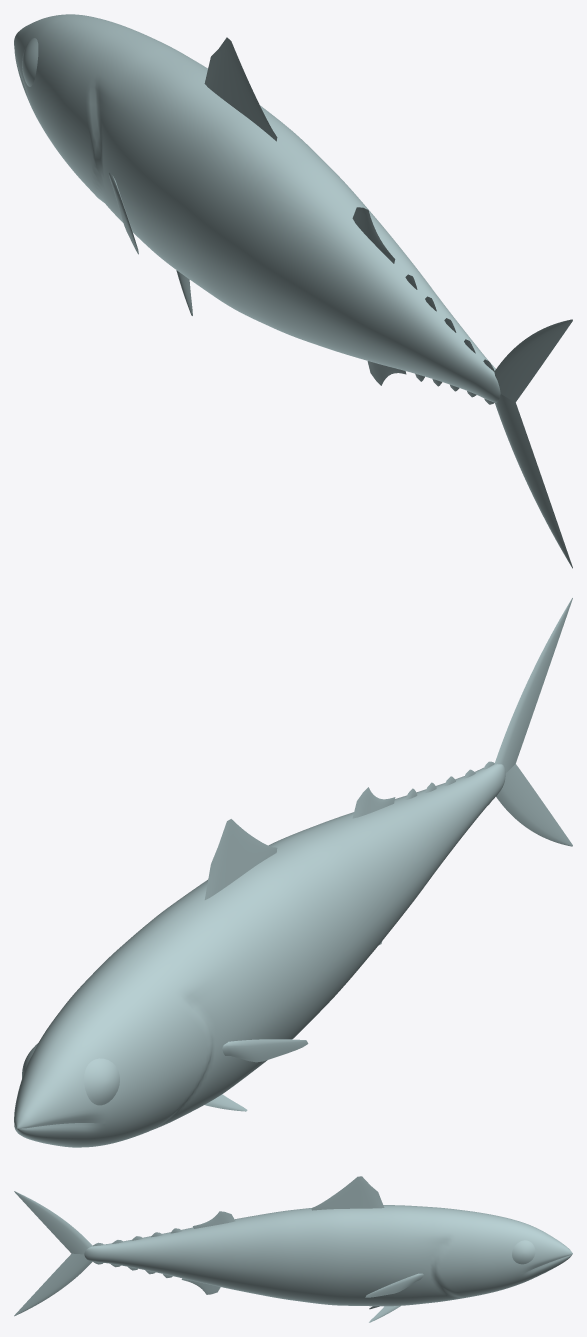
The model's file is pacific_mackerel.glb.
3 renders of one model, top to bottom at view 1: azimuth 30°, elevation 25°; view 2: azimuth 150°, elevation 25°; view 3: azimuth 270°, elevation 25°, orthographic. The views are drawn at different scales.
Parts seen in each view (by area): view 1: pacific_mackerel; view 2: pacific_mackerel; view 3: pacific_mackerel.
Part boxes in pixels (x1,y1,x2,y2): pacific_mackerel: (14,14,572,568); pacific_mackerel: (14,598,572,1147); pacific_mackerel: (14,1176,572,1322).
Bounding box in the file's own units: 0.0702 × 0.1103 × 0.3991.
